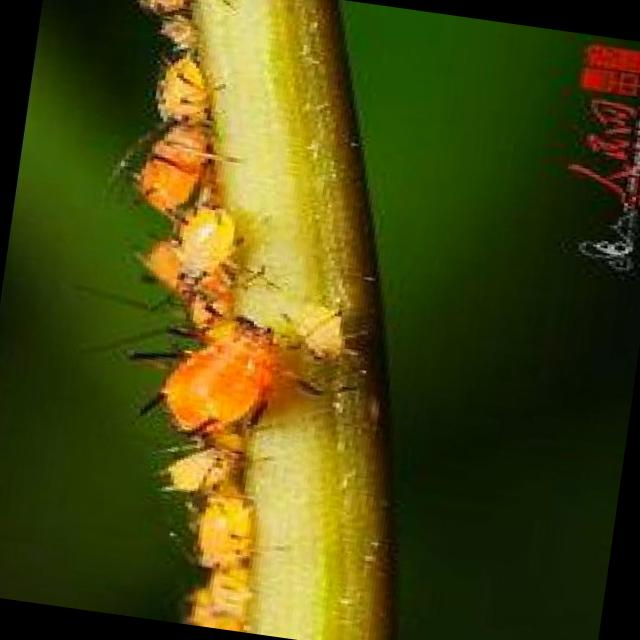aphid: (121, 0, 270, 303), (144, 303, 328, 445), (142, 434, 272, 633)
